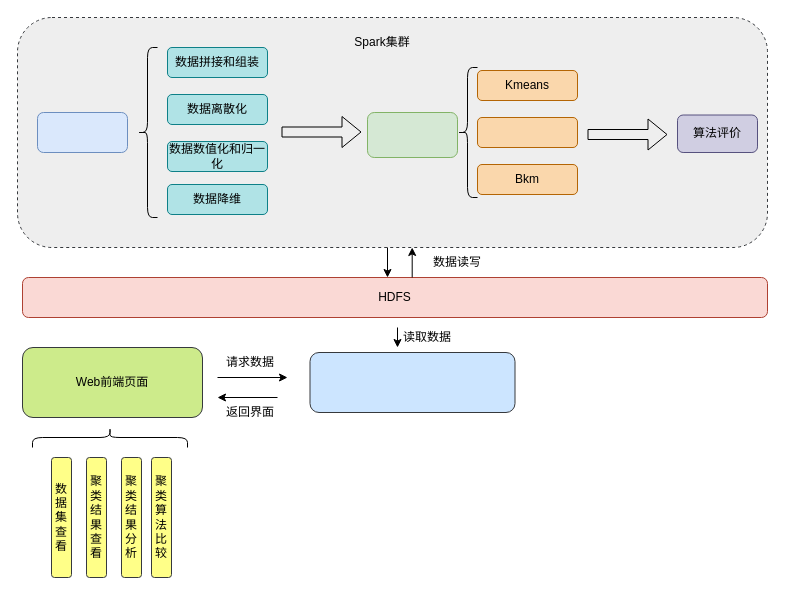
Image size: 785x595. Some labels were removed from this diagram. Here are the shapes that lost their labels. From the top down, the box of each, then its label:
(36, 112, 128, 152): 数据预处理
(366, 112, 458, 158): 聚类算法
(476, 116, 578, 148): Gmm
(309, 352, 515, 412): 后端(FastAPI)
